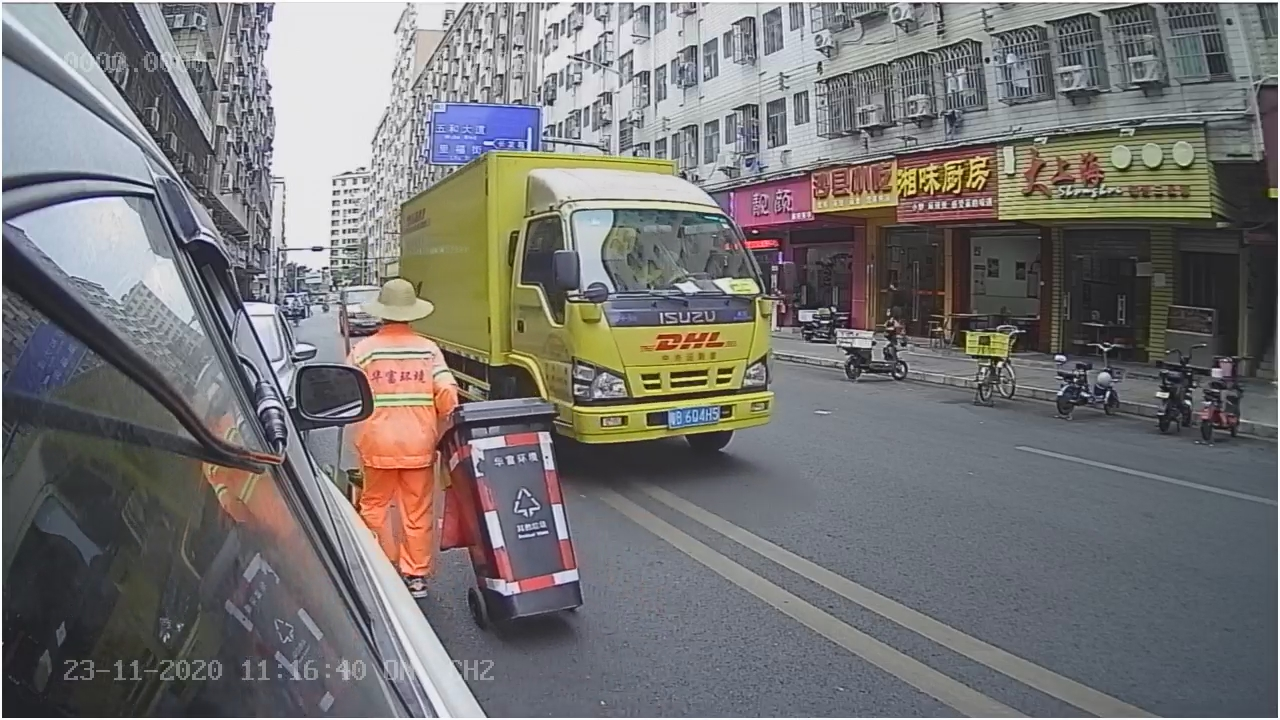person: (352, 280, 463, 401)
